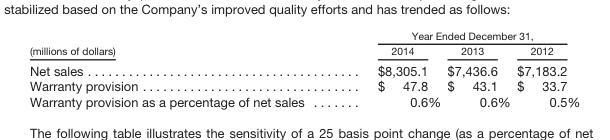table: (28, 28, 579, 109)
table column: (28, 28, 340, 109), (340, 28, 443, 109), (443, 28, 512, 109), (512, 28, 579, 109)
table column header: (28, 28, 579, 59)
table row: (28, 59, 579, 78), (28, 42, 579, 59), (28, 93, 579, 109), (28, 78, 579, 93), (28, 28, 579, 42)
table spanning cell: (28, 28, 340, 59), (340, 28, 579, 42)
